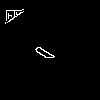L: (25, 25, 79, 73)
